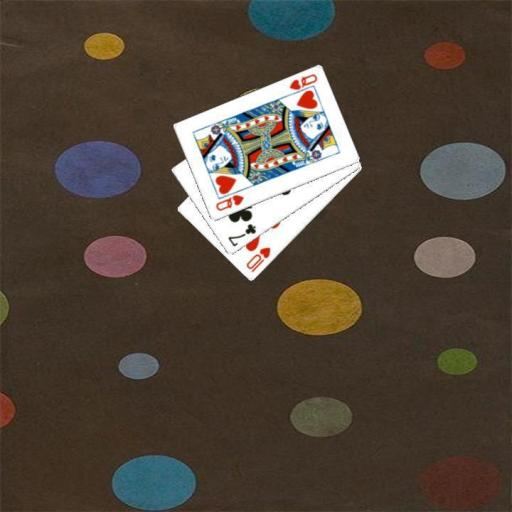card-corner: (285, 71, 319, 98), (243, 244, 272, 274), (225, 221, 257, 248), (213, 192, 245, 213)
